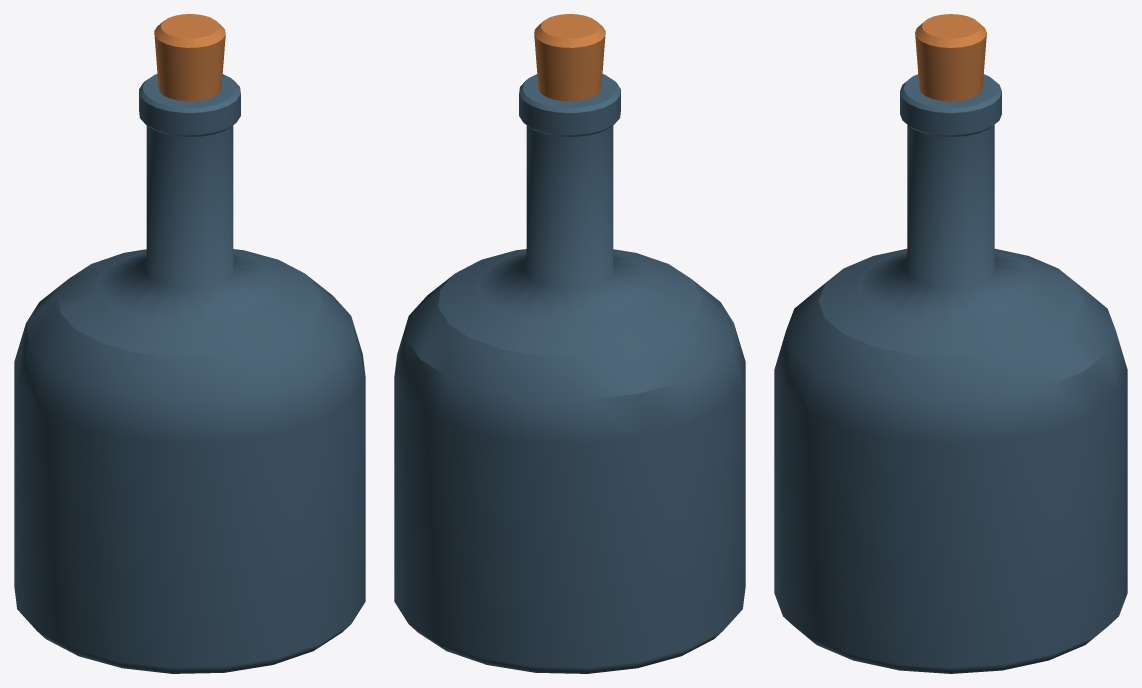
The model's file is Bottle_1.fbx.
3 renders of one model, left to right at view 1: azimuth 30°, elevation 25°; view 2: azimuth 150°, elevation 25°; view 3: azimuth 270°, elevation 25°, orthographic.
Visible parts, largest first — view 1: Bottle1; view 2: Bottle1; view 3: Bottle1.
Boxes of the visible parts, x1,y1,x2,y2 form: Bottle1: [14, 14, 365, 673]; Bottle1: [394, 14, 745, 673]; Bottle1: [774, 14, 1127, 673].
Bounding box in the file's own units: 99.45 × 182 × 99.45.
